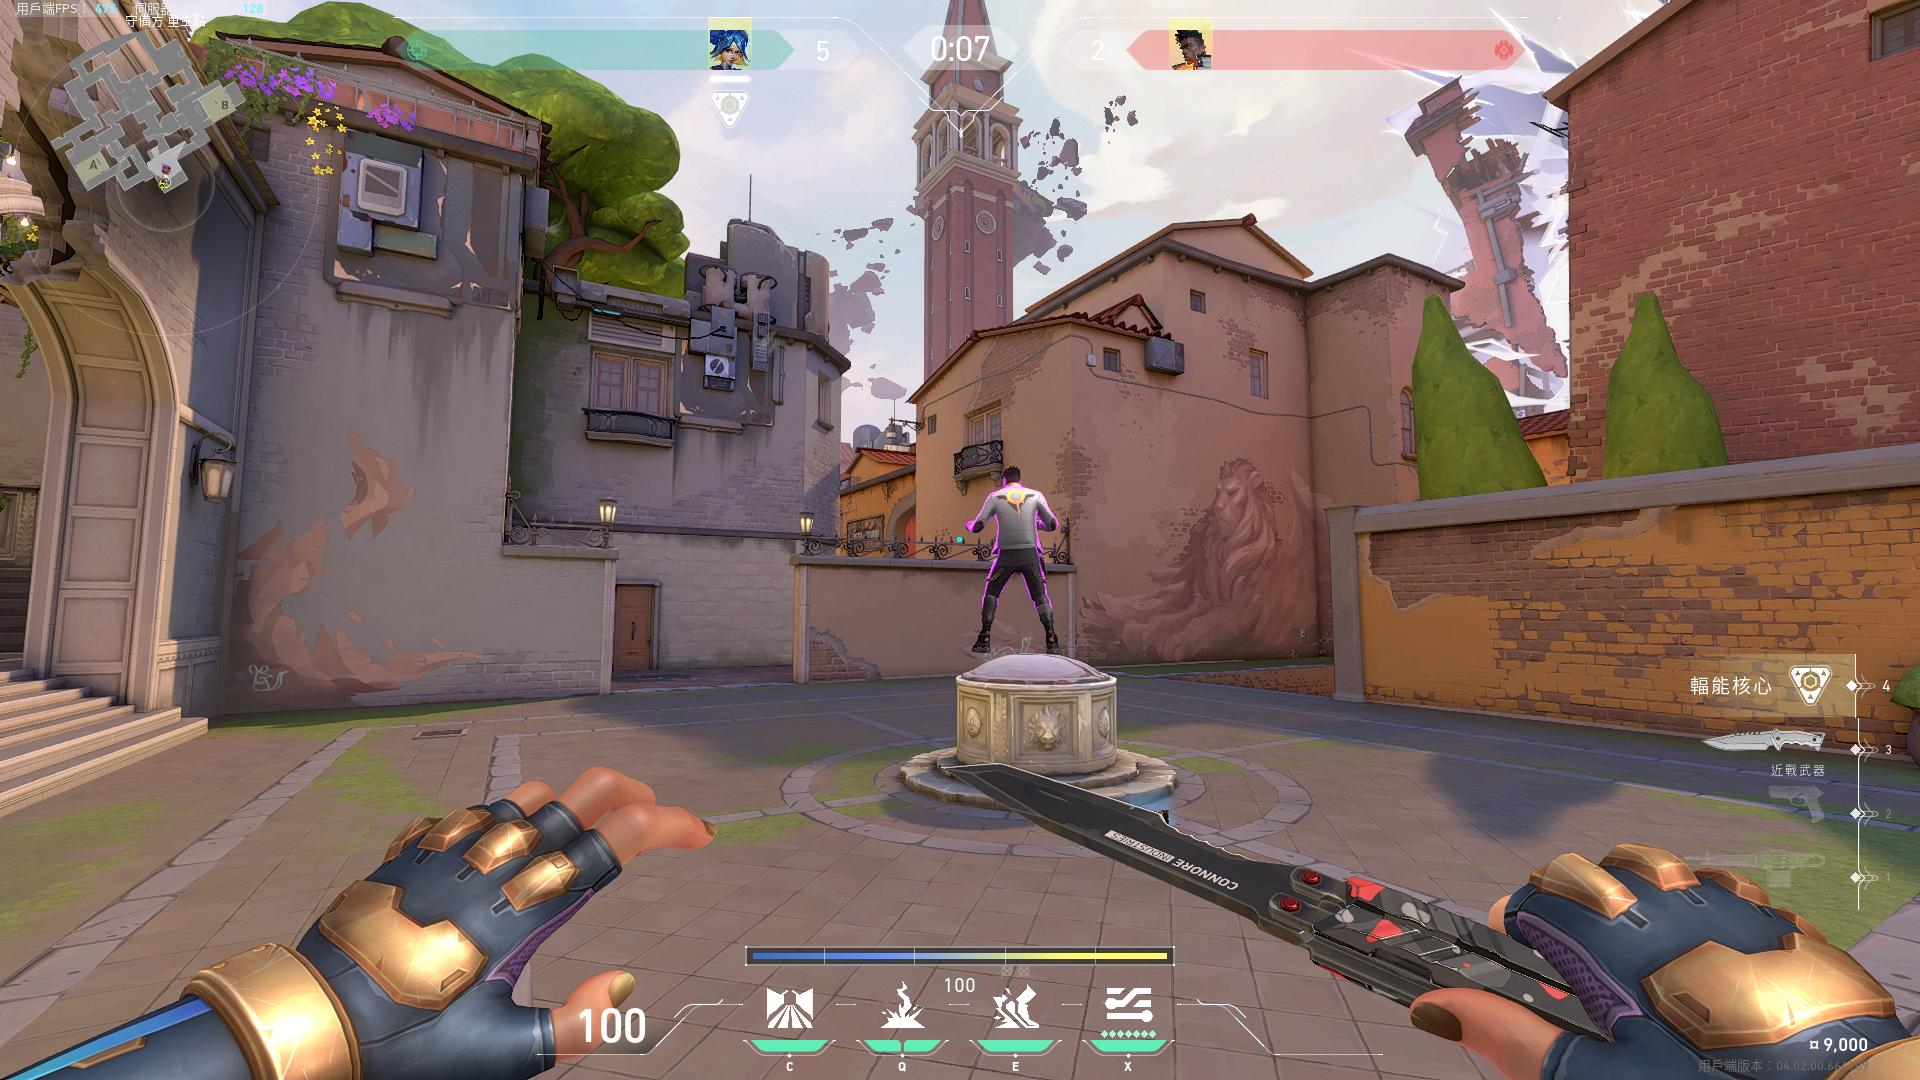enemyBody: (1000, 498, 1034, 555)
enemyHead: (1004, 469, 1017, 487)
